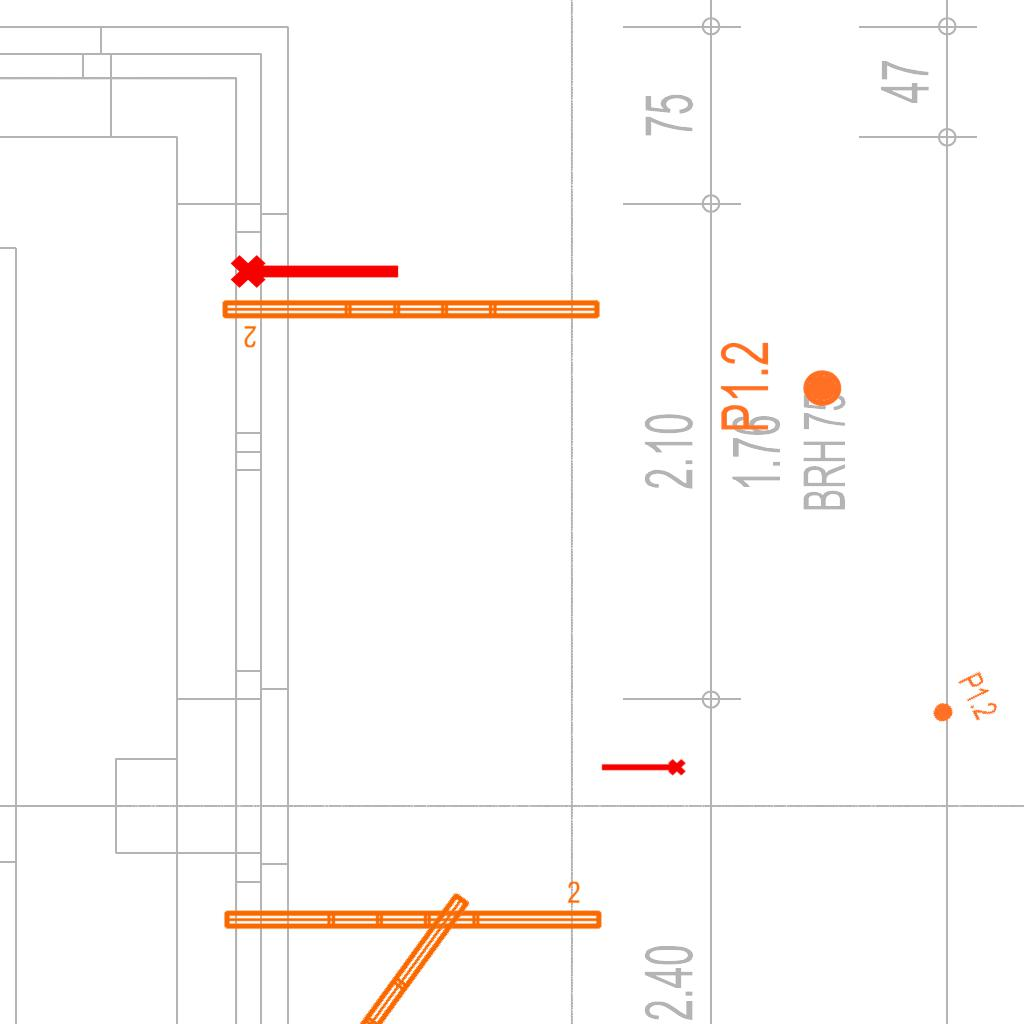ASR_Ansaugoeffnung: (228, 246, 404, 292), (599, 757, 687, 780)
Ambulanz_Pendelleuchte_LED: (226, 883, 499, 1024), (219, 879, 606, 935), (218, 294, 605, 350)
Downlight_LED_Einbauleuchten_Flur: (717, 340, 845, 433), (923, 669, 1001, 739)
